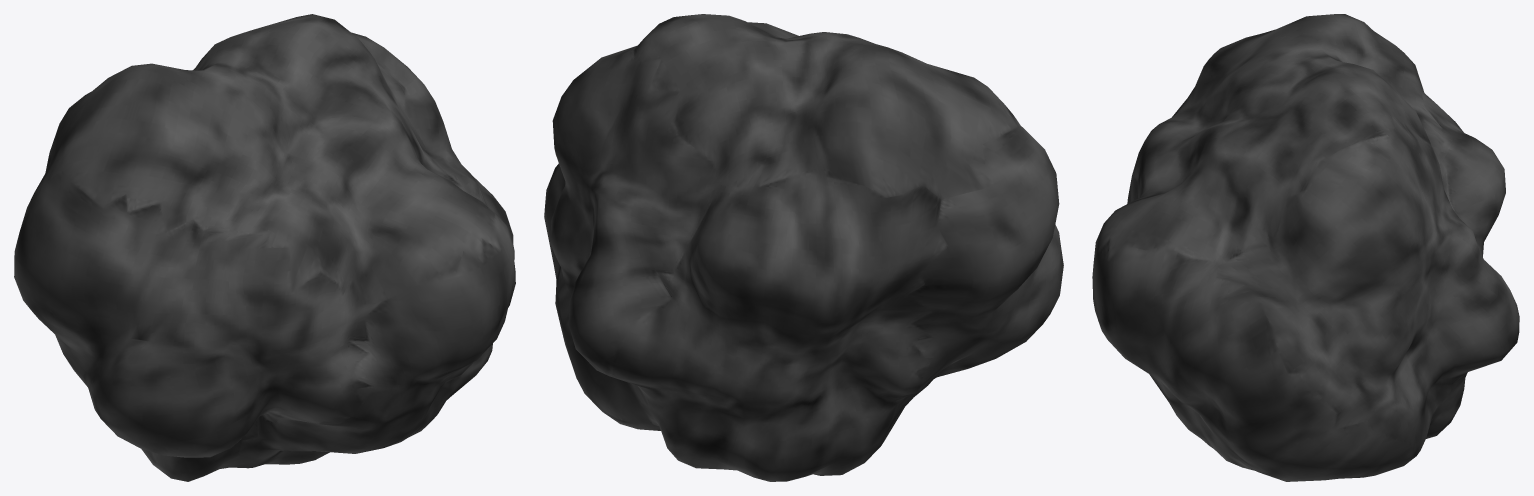
File: spaceRock.glb
3 views of the same model, side by side, from view 1: azimuth 30°, elevation 25°; view 2: azimuth 150°, elevation 25°; view 3: azimuth 270°, elevation 25° (orthographic). The views are drawn at different scales.
Visible parts, largest first — view 1: Icosphere; view 2: Icosphere; view 3: Icosphere.
Boxes of the visible parts, x1,y1,x2,y2 form: Icosphere: (14,14,515,481); Icosphere: (544,14,1063,481); Icosphere: (1092,14,1519,481).
Size of the model in its own units: 4.98 by 4.32 by 4.18.
Materials: 1 (1 with a texture image).
